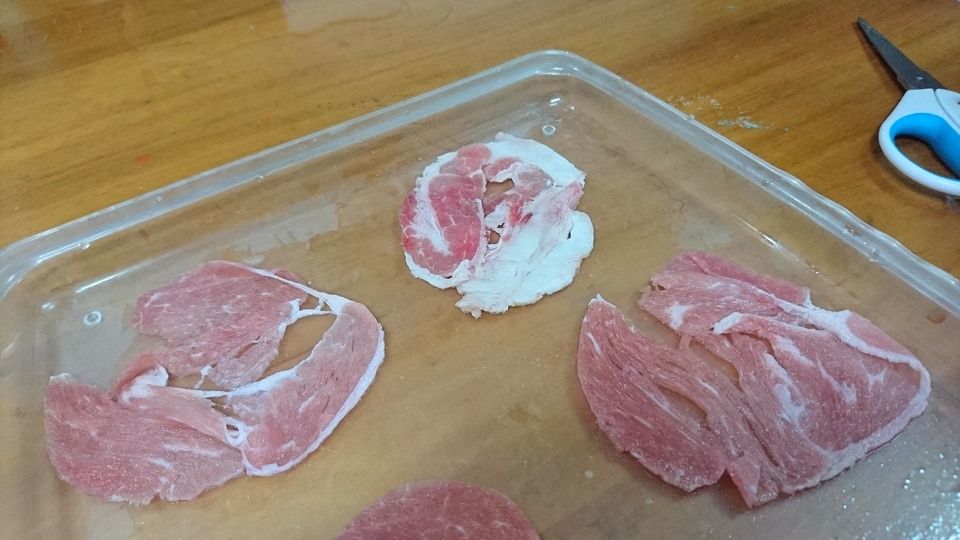restructured meat: (46, 265, 392, 507), (581, 266, 921, 496), (379, 130, 582, 300), (350, 485, 559, 540)
